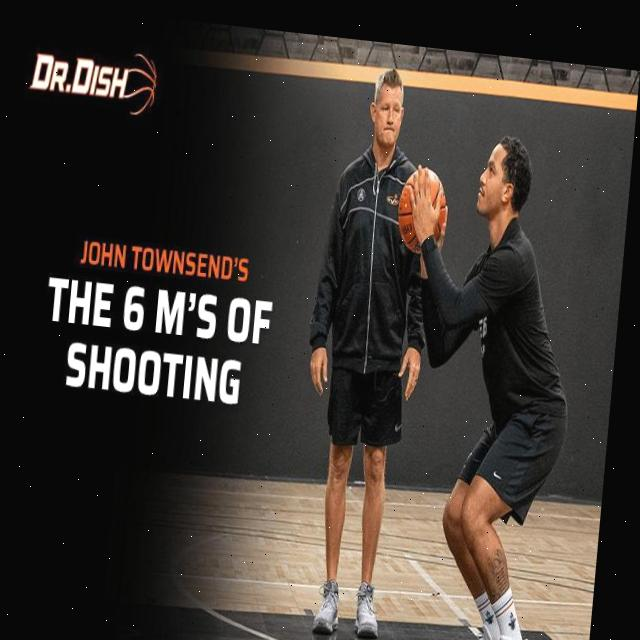Basketball: (395, 165, 450, 256)
